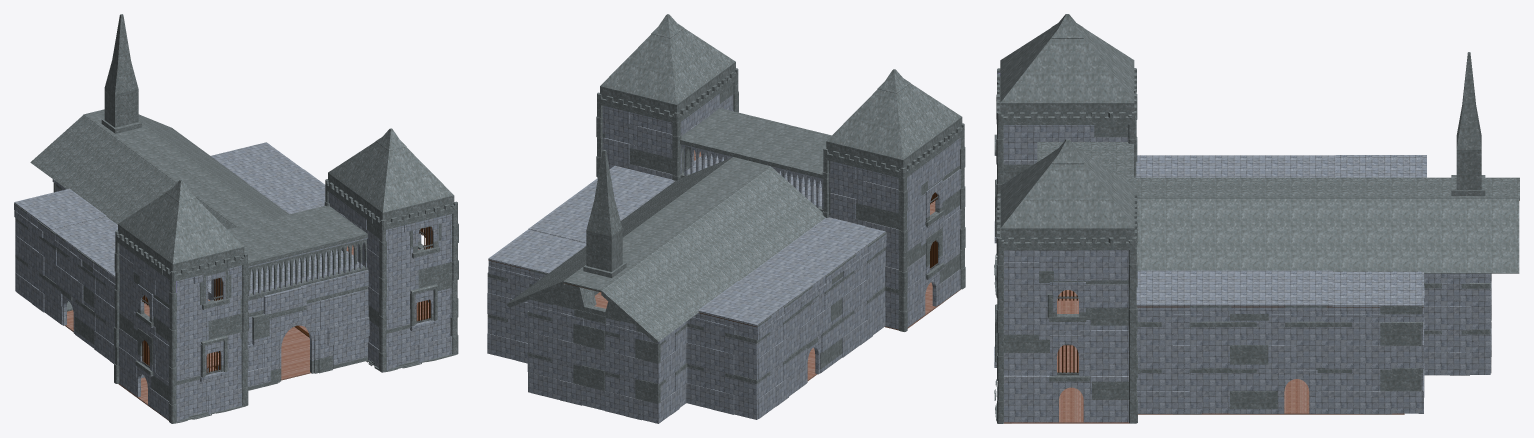
Rendered from GreatHall_Merge.fbx.
3 views of the same model, side by side, from view 1: azimuth 30°, elevation 25°; view 2: azimuth 150°, elevation 25°; view 3: azimuth 270°, elevation 25° (orthographic). The views are drawn at different scales.
Parts seen in each view (by area): view 1: mergedBlocks; view 2: mergedBlocks; view 3: mergedBlocks.
Boxes of the visible parts, x1,y1,x2,y2 form: mergedBlocks: (14, 14, 458, 423); mergedBlocks: (487, 14, 965, 423); mergedBlocks: (994, 14, 1519, 423).
Bounding box in the file's own units: 162 × 126 × 210.
